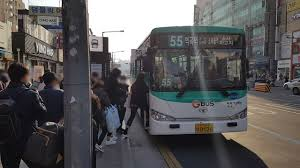bnum: (168, 35, 184, 48)
